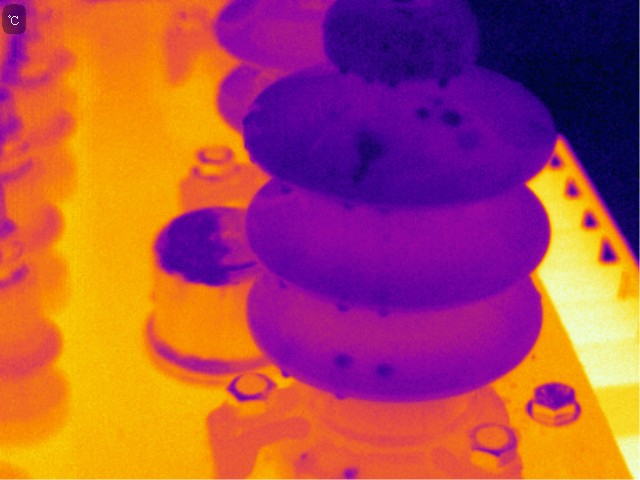Water: (347, 127, 389, 186), (244, 139, 272, 166), (404, 28, 430, 49), (373, 358, 395, 381), (456, 131, 480, 152), (330, 351, 355, 367), (394, 5, 416, 22), (442, 111, 464, 127), (384, 72, 403, 90), (435, 72, 452, 92), (375, 302, 392, 320), (336, 62, 354, 79), (413, 103, 429, 119), (338, 198, 355, 213), (328, 389, 349, 401), (241, 111, 257, 126), (358, 75, 376, 88), (335, 297, 350, 312), (275, 278, 290, 293), (403, 62, 418, 76), (378, 205, 393, 217), (279, 368, 290, 381), (280, 186, 293, 196)
